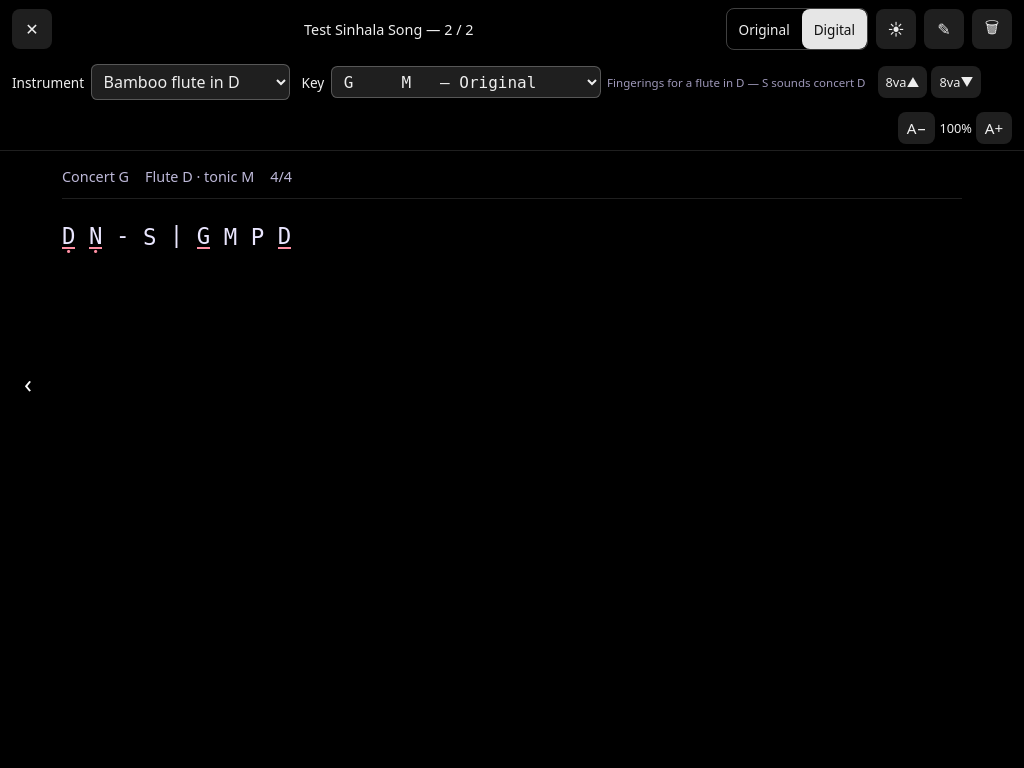
it: App › shows the octave nudge on the header even when the key has not changed
The width and height of the screenshot is (1024, 768).
Expected: the text "Concert G" is shown, 62,167 -> 129,186
Click the button "8va▲". click: click(902, 82)
box: 878,66 -> 927,98
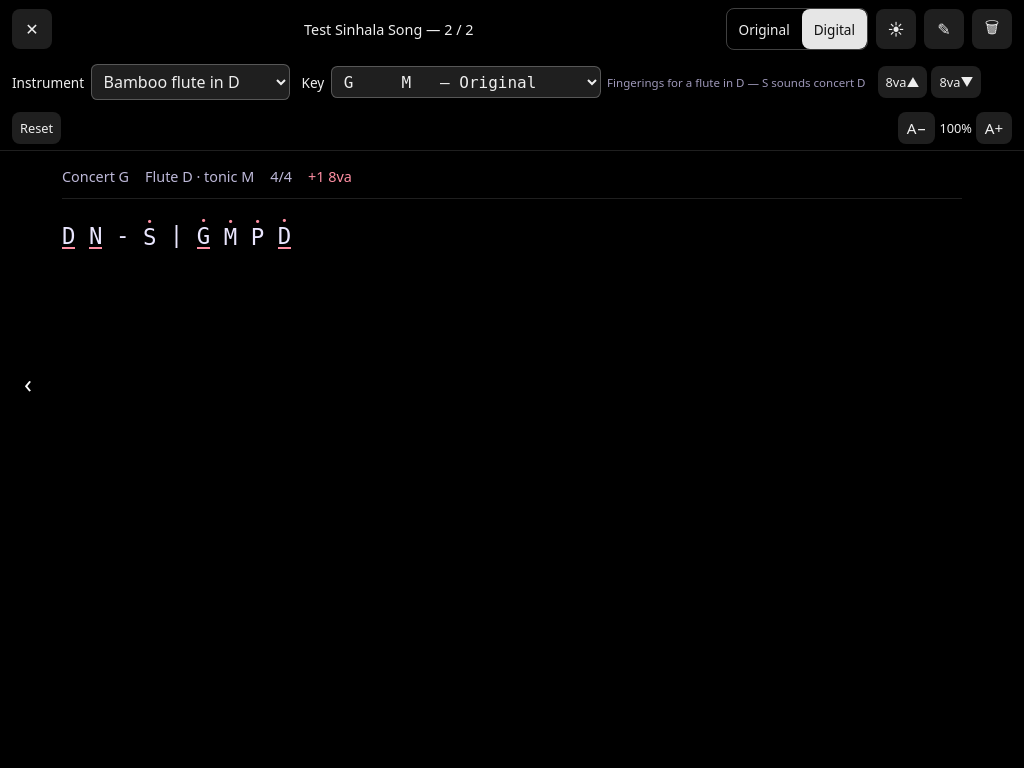
Expected: the text with class "transposed-tag" does not show "transposed", 308,167 -> 352,186
Result: the text with class "transposed-tag" reads "+1 8va" at 308,167 -> 352,186
